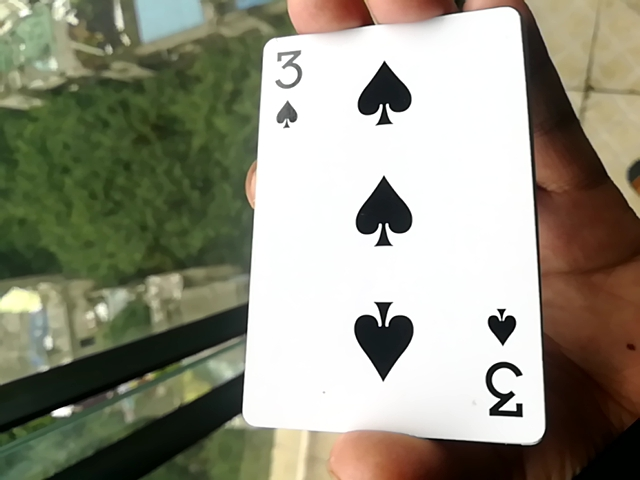ht 3: (221, 7, 544, 445)
